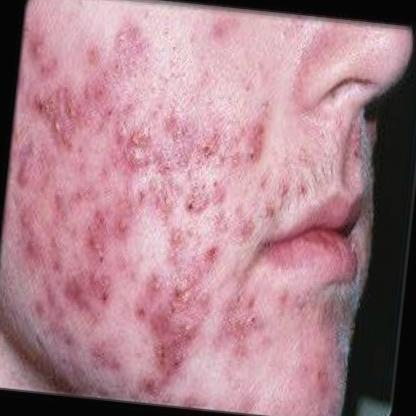Acne: (122, 122, 152, 174), (178, 183, 209, 225), (170, 271, 200, 313), (46, 114, 76, 151), (241, 138, 262, 173)
